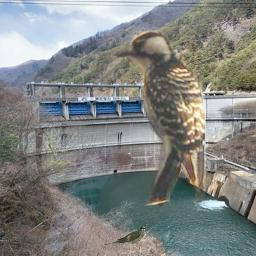Cuckoo: (101, 226, 145, 246)
Woodpecker: (112, 30, 206, 206)
